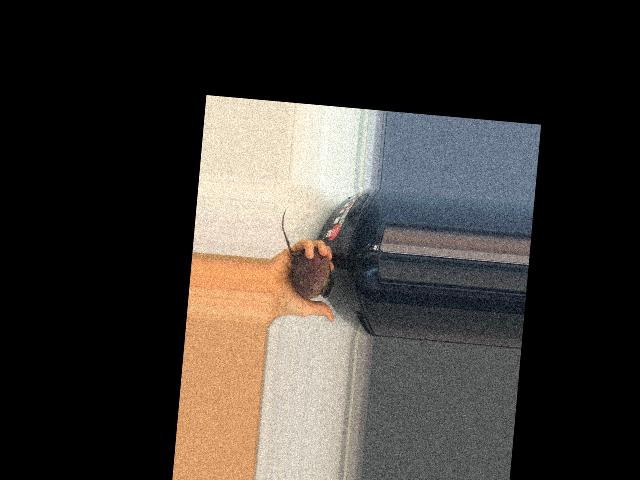beet: (275, 208, 339, 300)
